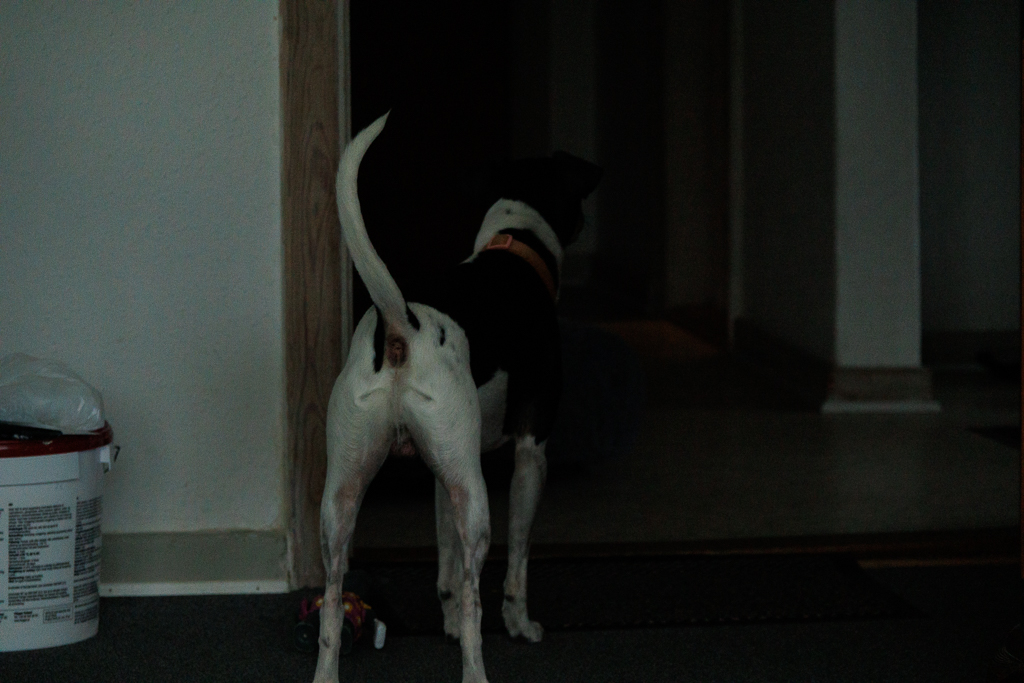Dog: (297, 100, 621, 683)
Humanoid: (287, 563, 398, 667)
